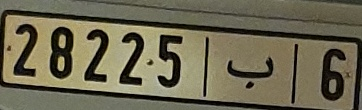2: (12, 23, 40, 78), (118, 31, 146, 86), (83, 28, 110, 84)
5: (156, 32, 185, 89)
6: (318, 47, 348, 103)
8: (47, 25, 75, 79)
b: (225, 54, 276, 91)
